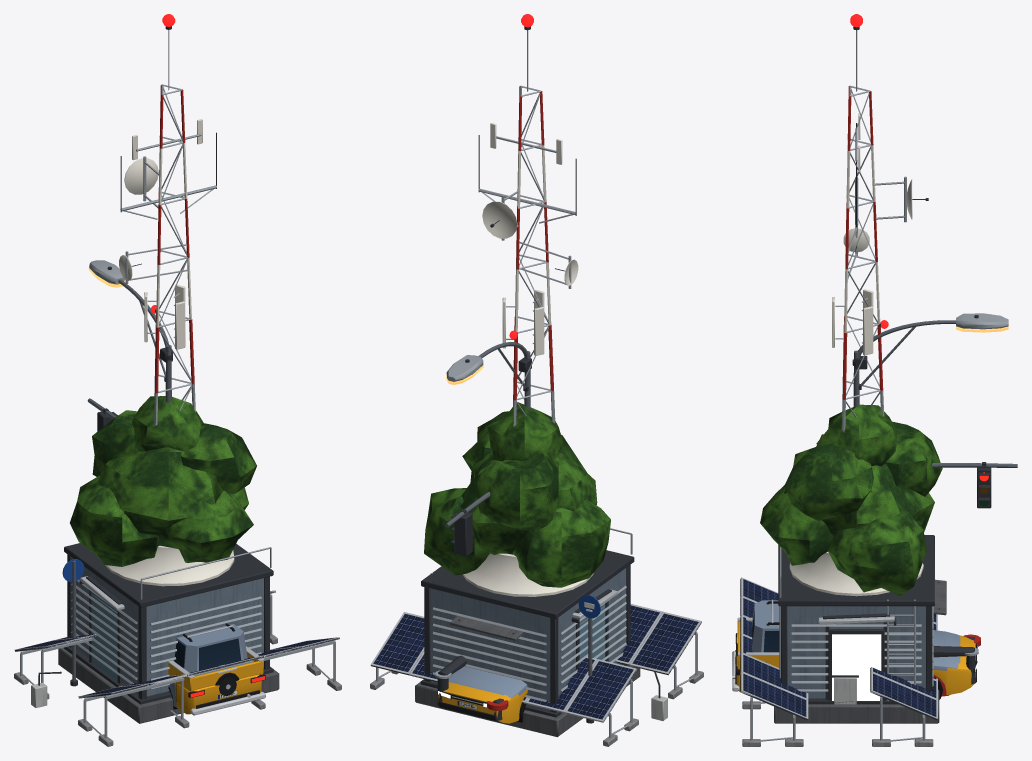
The model's file is city_props.glb.
The picture shows the model from 3 angles, left to right: view 1: azimuth 30°, elevation 25°; view 2: azimuth 150°, elevation 25°; view 3: azimuth 270°, elevation 25°; orthographic projection.
Parts seen in each view (by area): view 1: Tree_Body, CoolingTower_Body, Antenna_Body, SolarArray_Body, CarC_Body, CarB_Body, BusShelter_Body, StreetLamp_Body; view 2: CoolingTower_Body, Tree_Body, SolarArray_Body, Antenna_Body, CarC_Body, BusShelter_Body, StreetLamp_Body, CarB_Body, TrafficLight_Body, RoofAccess_Body; view 3: Tree_Body, CoolingTower_Body, Antenna_Body, SolarArray_Body, BusShelter_Body, CarB_Body, StreetLamp_Body, CarC_Body, TrafficLight_Body.
Boxes of the visible parts, x1,y1,x2,y2 form: Tree_Body: [70, 396, 256, 566]; CoolingTower_Body: [58, 543, 279, 723]; Antenna_Body: [119, 14, 216, 425]; SolarArray_Body: [14, 590, 341, 746]; CarC_Body: [168, 646, 265, 715]; CarB_Body: [168, 623, 247, 707]; BusShelter_Body: [62, 559, 124, 686]; StreetLamp_Body: [88, 260, 172, 402]; CoolingTower_Body: [415, 528, 640, 737]; Tree_Body: [424, 402, 610, 587]; SolarArray_Body: [370, 604, 703, 746]; Antenna_Body: [478, 14, 578, 426]; CarC_Body: [437, 682, 527, 723]; BusShelter_Body: [571, 589, 617, 723]; StreetLamp_Body: [446, 342, 531, 408]; CarB_Body: [448, 666, 527, 698]; TrafficLight_Body: [445, 491, 490, 556]; RoofAccess_Body: [450, 615, 523, 640]; Tree_Body: [760, 404, 942, 595]; CoolingTower_Body: [774, 535, 980, 723]; Antenna_Body: [832, 14, 928, 704]; SolarArray_Body: [740, 577, 937, 746]; BusShelter_Body: [818, 613, 896, 700]; CarB_Body: [735, 599, 960, 695]; StreetLamp_Body: [852, 313, 1008, 407]; CarC_Body: [732, 617, 977, 694]; TrafficLight_Body: [932, 462, 1017, 508].
Bounding box in the file's own units: 6.64 × 16.63 × 6.38.
47 materials, 14 textured.
